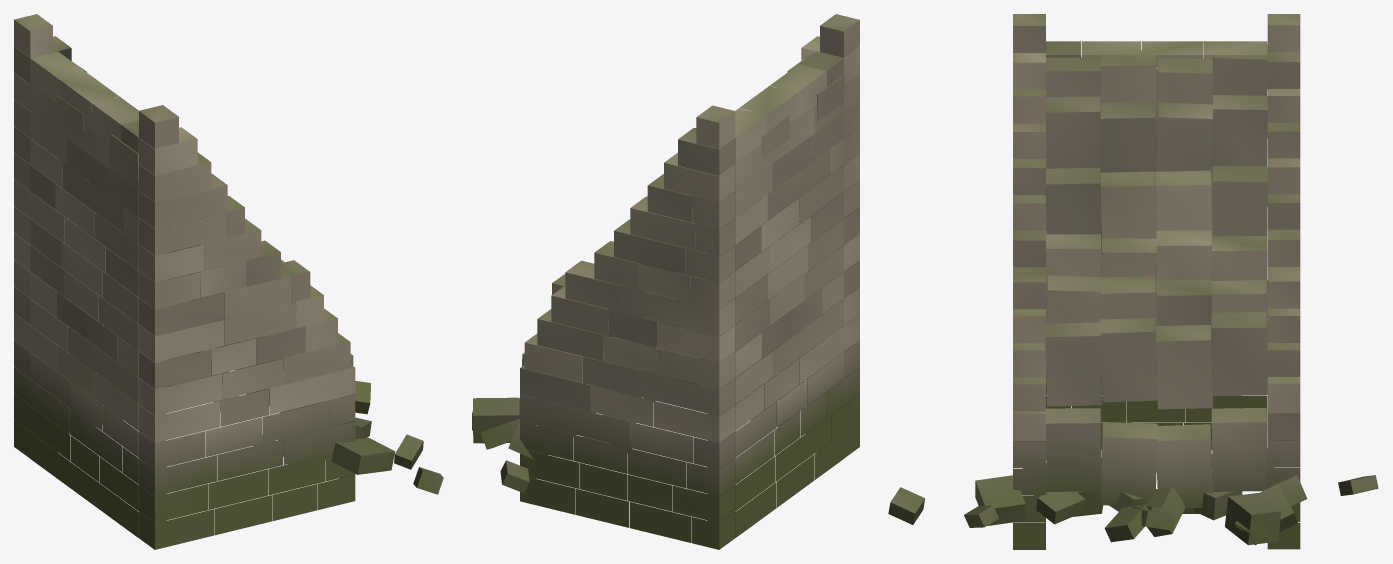
File: citadel_wall_end_mid.glb
The picture shows the model from 3 angles, left to right: view 1: azimuth 30°, elevation 25°; view 2: azimuth 150°, elevation 25°; view 3: azimuth 270°, elevation 25°; orthographic projection. The views are drawn at different scales.
Visible parts, largest first — view 1: citadel_wall_end_mid; view 2: citadel_wall_end_mid; view 3: citadel_wall_end_mid.
Part boxes in pixels (box(x1,y1,x2,y2)): citadel_wall_end_mid: box(14, 14, 443, 549); citadel_wall_end_mid: box(472, 14, 859, 549); citadel_wall_end_mid: box(888, 14, 1378, 549).
Size of the model in its own units: 23.58 by 35.17 by 35.83.
